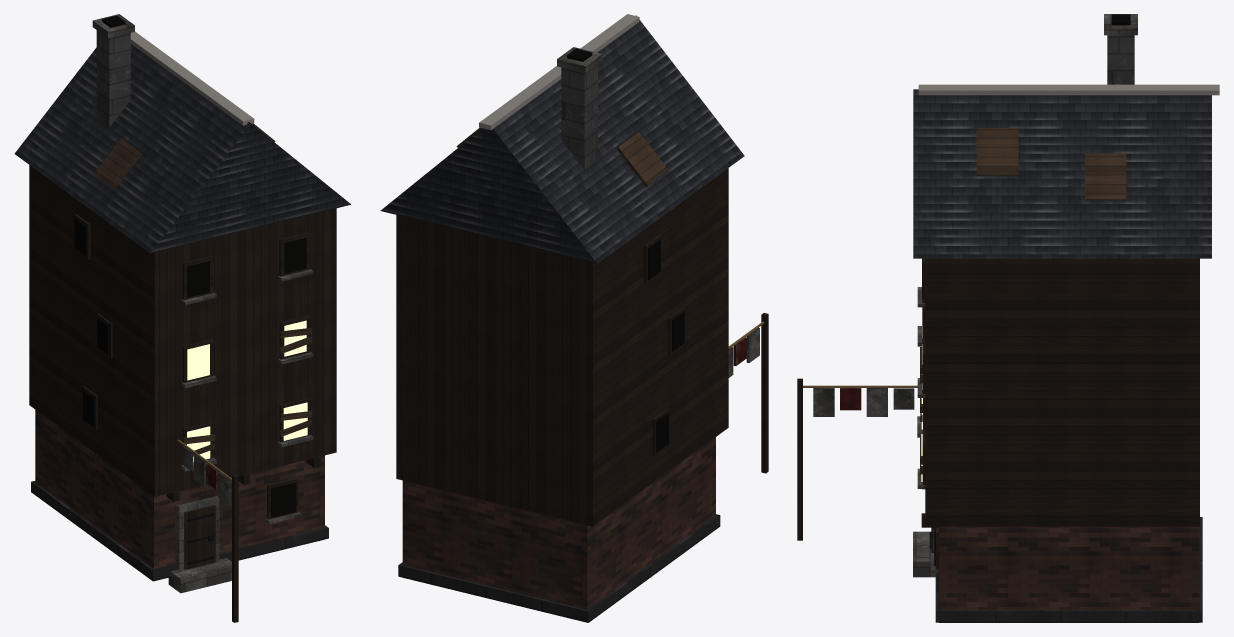
Rendered from CasaS15.gltf.
3 views of the same model, side by side, from view 1: azimuth 30°, elevation 25°; view 2: azimuth 150°, elevation 25°; view 3: azimuth 270°, elevation 25° (orthographic). The views are drawn at different scales.
Parts seen in each view (by area): view 1: CasaS15; view 2: CasaS15; view 3: CasaS15.
Part boxes in pixels (x1=…): CasaS15: x1=14, y1=14, x2=350, y2=622; CasaS15: x1=380, y1=14, x2=768, y2=622; CasaS15: x1=797, y1=14, x2=1219, y2=622.
Bounding box in the file's own units: 6.85 × 16.18 × 11.38.
14 materials, 9 textured.
